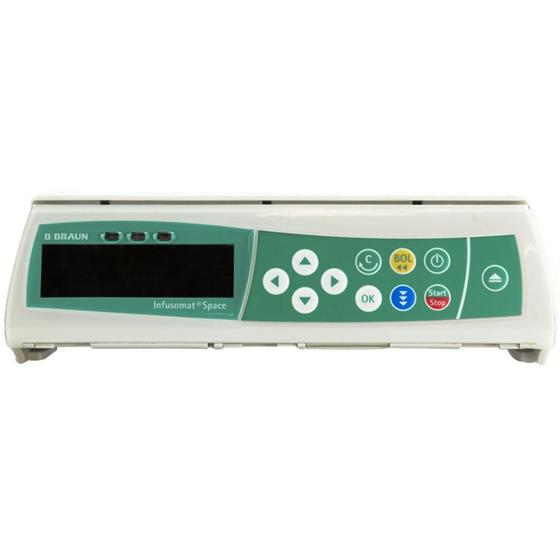BBraun Infusomat Space: (1, 186, 560, 373)
